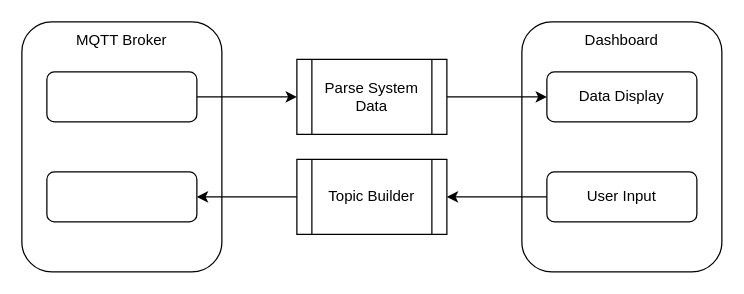
The diagram is 744 pixels wide and 294 high, and some of its shapes have lost their labels. The centre of each missing label's shape, as x and y in pixels:
MQTT in 'ELEC520/security/#': the point at 121,96
MQTT out: the point at 121,196
